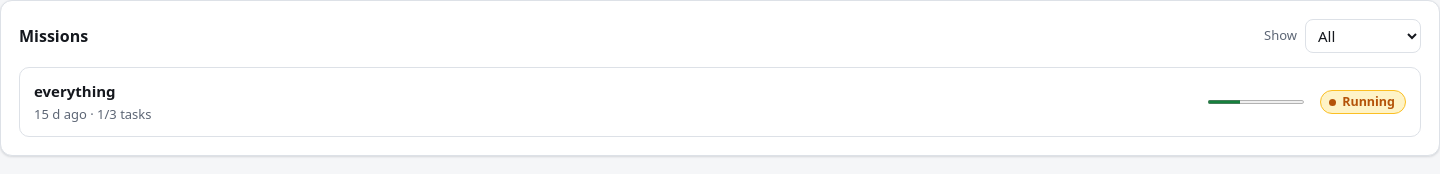
Test: MissionList › filters by status and asks the API for it
expect the text "everything" is shown: met, box left=34, top=81, right=116, bottom=101
Select "Failed" in the dropdown: point(1363, 36) left=1305, top=19, right=1421, bottom=53
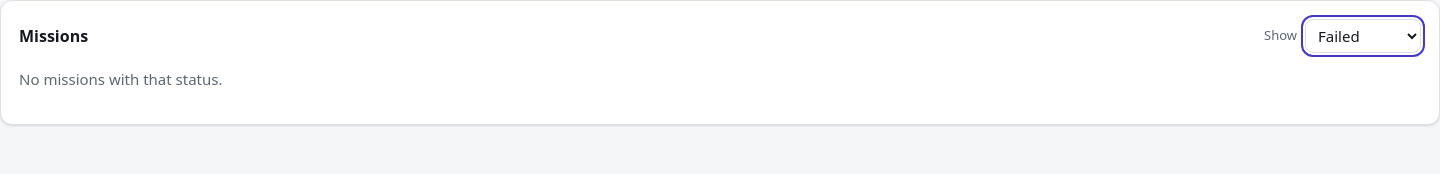
expect the text "No missions with that status." is shown: met, box left=19, top=69, right=222, bottom=89
